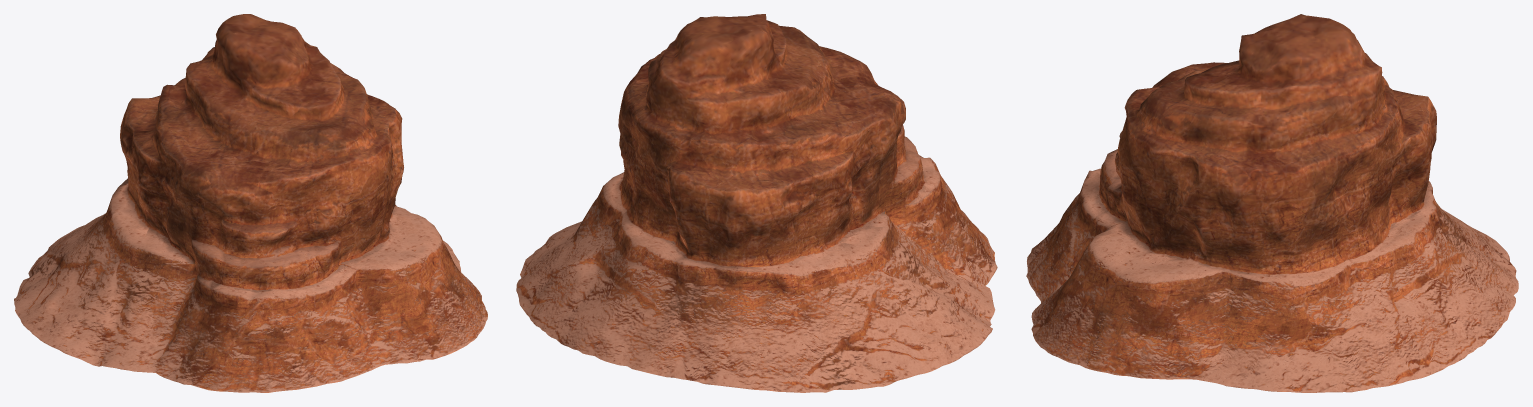
The model's file is P6DesertCliff-Mid.fbx.
The picture shows the model from 3 angles, left to right: view 1: azimuth 30°, elevation 25°; view 2: azimuth 150°, elevation 25°; view 3: azimuth 270°, elevation 25°; orthographic projection. The views are drawn at different scales.
Parts seen in each view (by area): view 1: P6DesertCliff-Mid; view 2: P6DesertCliff-Mid; view 3: P6DesertCliff-Mid.
Part boxes in pixels (x1,y1,x2,y2): P6DesertCliff-Mid: [14, 14, 487, 392]; P6DesertCliff-Mid: [516, 14, 997, 392]; P6DesertCliff-Mid: [1026, 14, 1518, 392].
Bounding box in the file's own units: 3007 × 1849 × 2945.
Materials: 1 (1 with a texture image).
